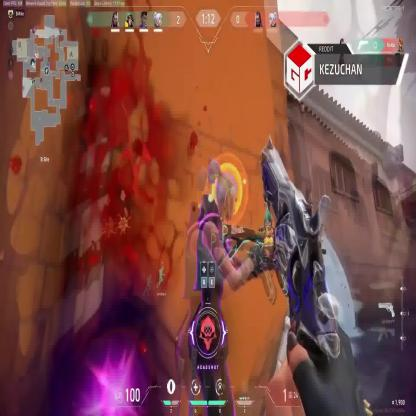enemy: (189, 155, 255, 416)
enemy_head: (208, 156, 235, 223)
